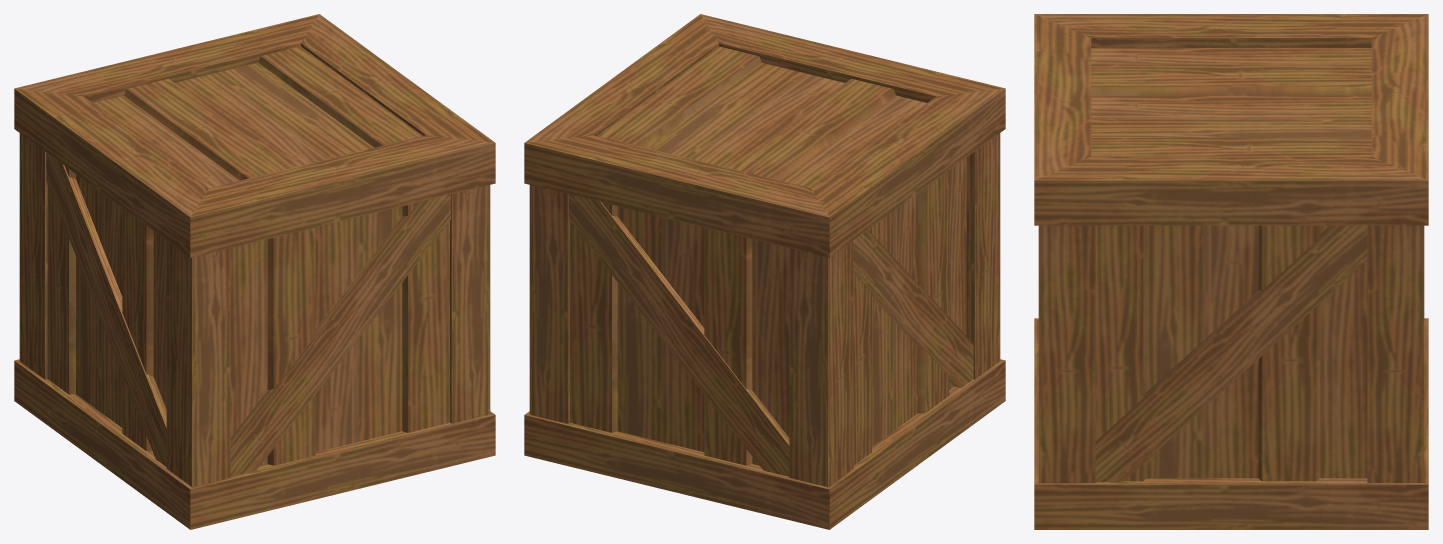
Rendered from Prop_Crate.gltf.
3 renders of one model, left to right at view 1: azimuth 30°, elevation 25°; view 2: azimuth 150°, elevation 25°; view 3: azimuth 270°, elevation 25°, orthographic. The views are drawn at different scales.
Visible parts, largest first — view 1: Prop_Crate; view 2: Prop_Crate; view 3: Prop_Crate.
Boxes of the visible parts, x1,y1,x2,y2 form: Prop_Crate: [14, 14, 495, 529]; Prop_Crate: [524, 14, 1005, 529]; Prop_Crate: [1034, 14, 1428, 529].
Bounding box in the file's own units: 1.08 × 1.06 × 1.08.
1 material, 1 textured.
